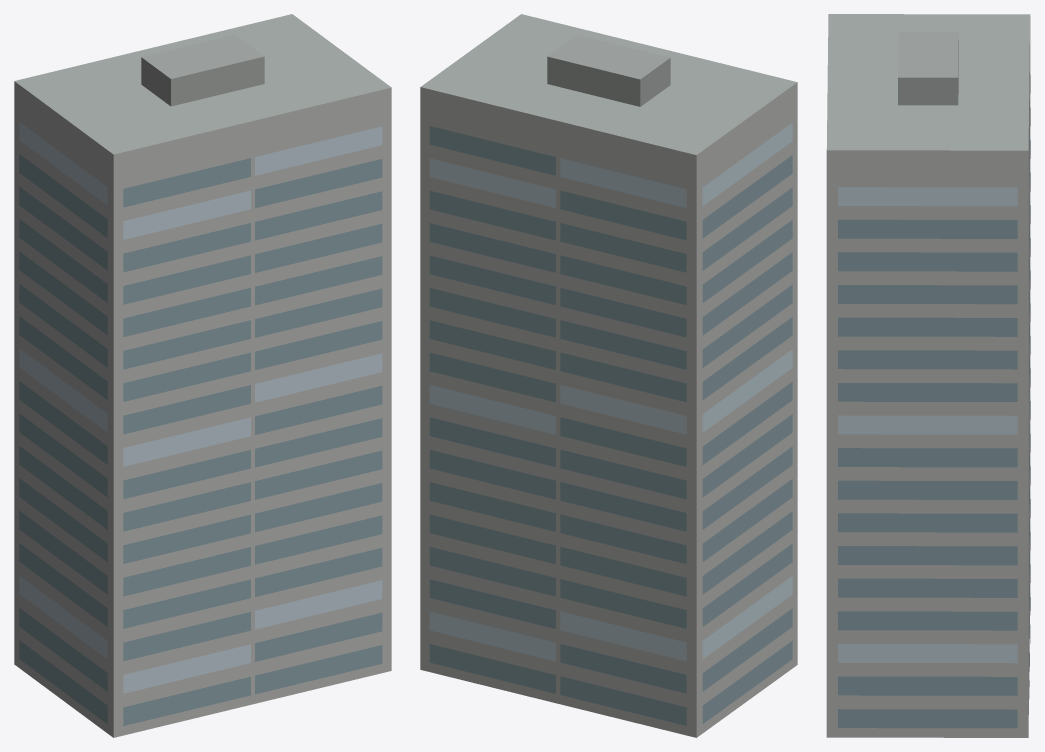
File: fallback-sk-bukhansan-city-110.glb
3 renders of one model, left to right at view 1: azimuth 30°, elevation 25°; view 2: azimuth 150°, elevation 25°; view 3: azimuth 270°, elevation 25°, orthographic.
Visible parts, largest first — view 1: fallback-sk-bukhansan-city-110; view 2: fallback-sk-bukhansan-city-110; view 3: fallback-sk-bukhansan-city-110.
Boxes of the visible parts, left/top/right/bottom form: fallback-sk-bukhansan-city-110: left=14, top=14, right=391, bottom=737; fallback-sk-bukhansan-city-110: left=420, top=14, right=797, bottom=737; fallback-sk-bukhansan-city-110: left=826, top=14, right=1030, bottom=737.
Bounding box in the file's own units: 24.38 × 51 × 15.37.
